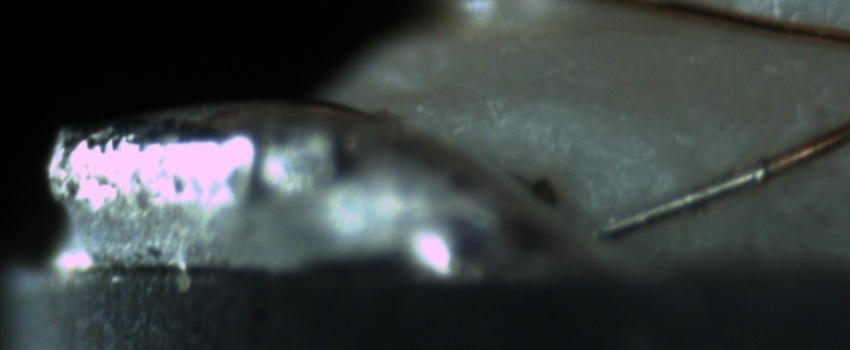TS: (584, 163, 770, 244)
